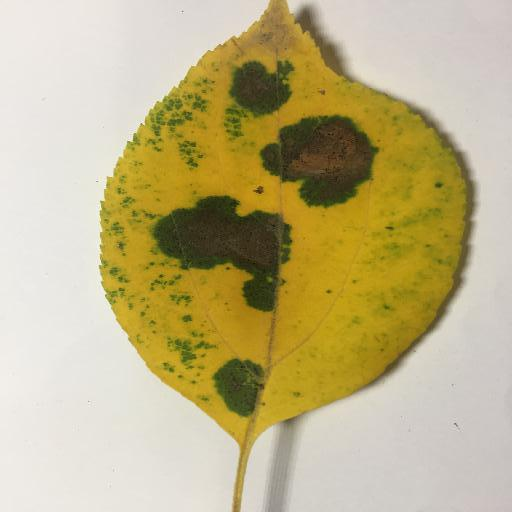Brown_Spot: (170, 204, 284, 274), (265, 121, 371, 188), (235, 70, 278, 104)
